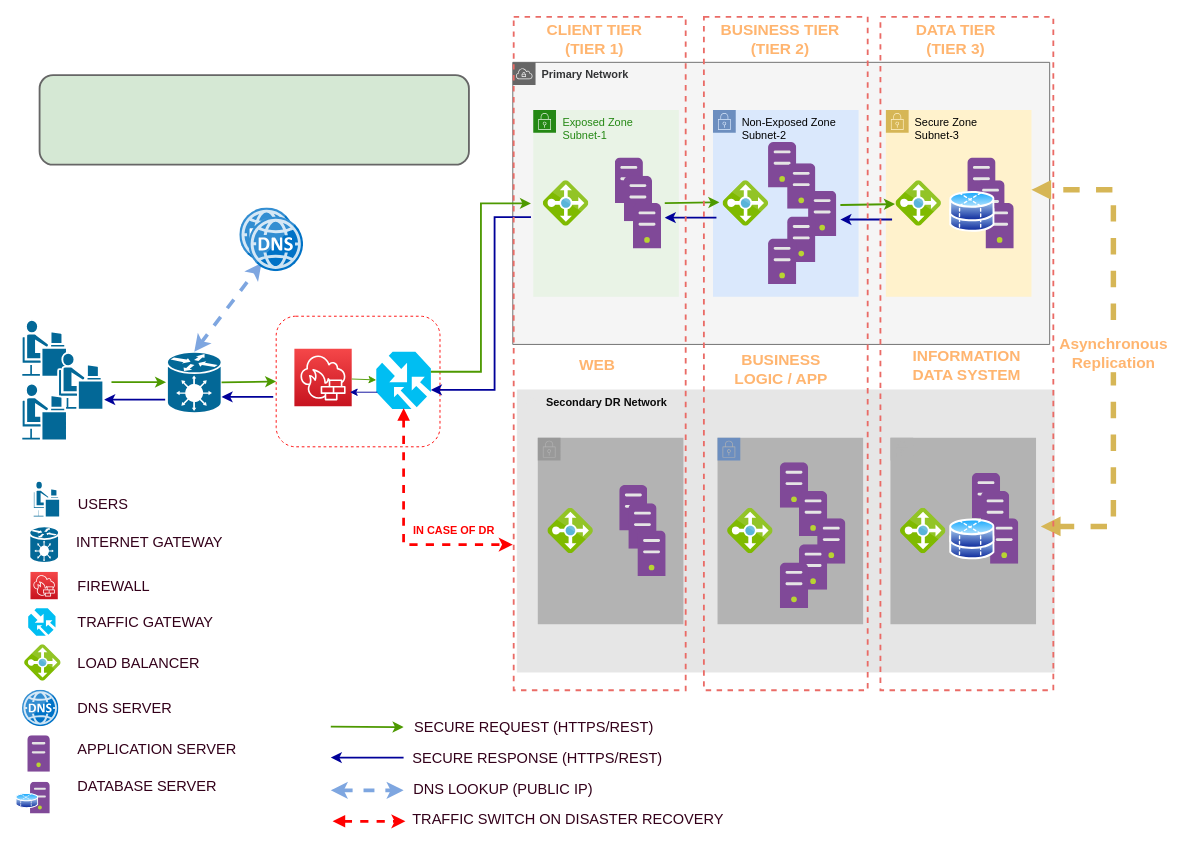
Some shapes in this 1183 by 847 pixel diagram are drawn without their labels. The box of each missing label's shape, as (x1, y1, x2, y2) in pixels:
3 TIER SIMPLE WEB-TIER ARCHITECTURE: (38, 74, 469, 165)
DMZ: (275, 315, 440, 447)
